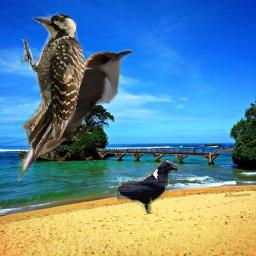Crow: (117, 159, 179, 214)
Cuckoo: (18, 48, 134, 186)
Woodpecker: (19, 10, 86, 160)
